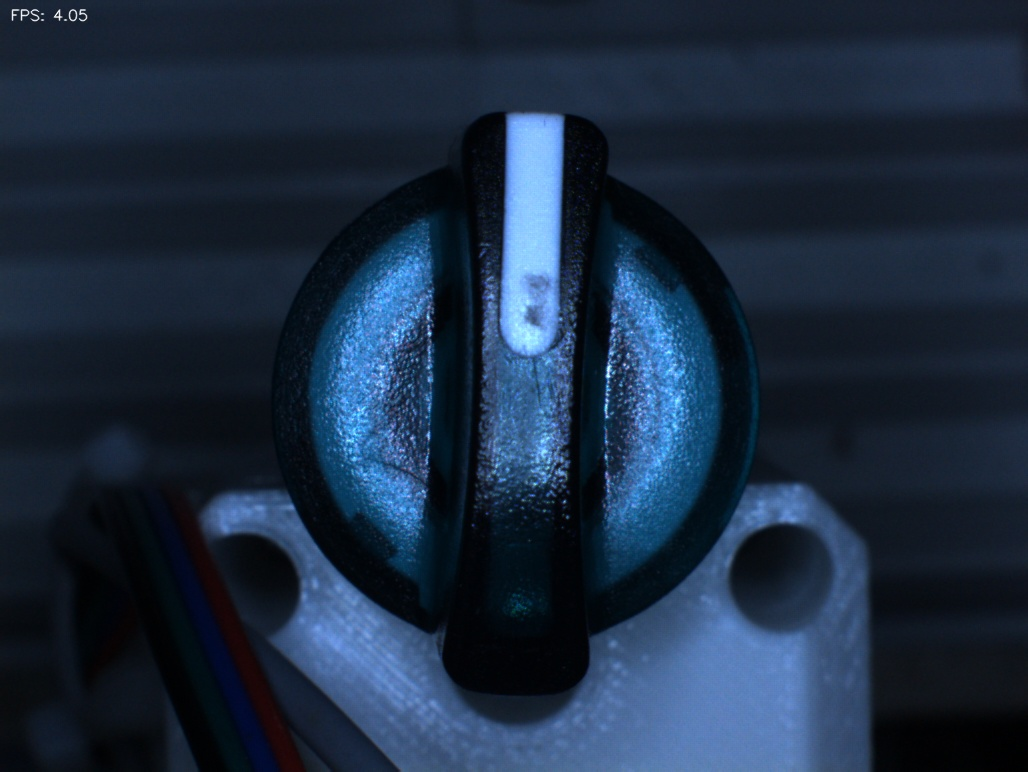PointNoir: (491, 251, 587, 355)
